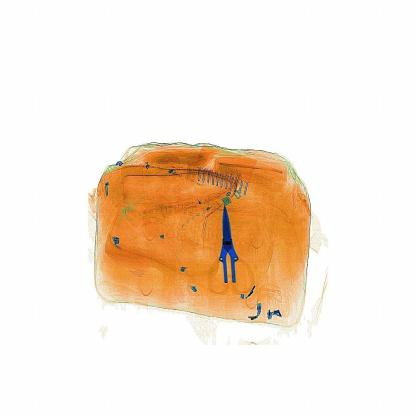gun: (205, 190, 270, 302)
